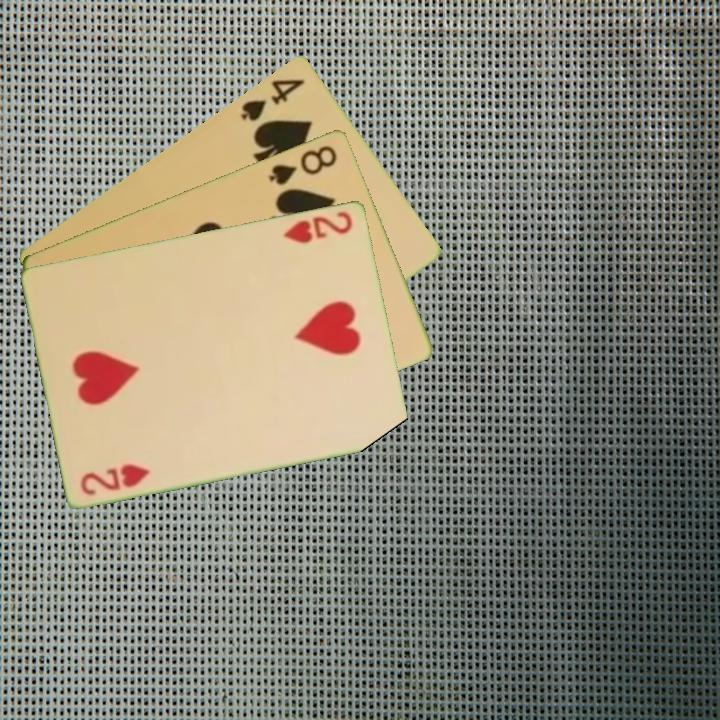2h: (279, 207, 356, 246), (77, 459, 154, 498)
4s: (237, 74, 308, 124)
8s: (265, 141, 340, 188)
